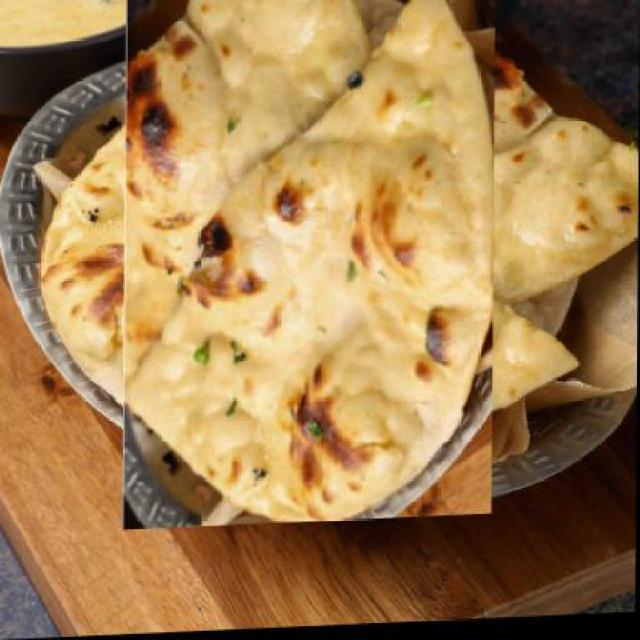chapati: (81, 23, 538, 492), (174, 0, 640, 326)
